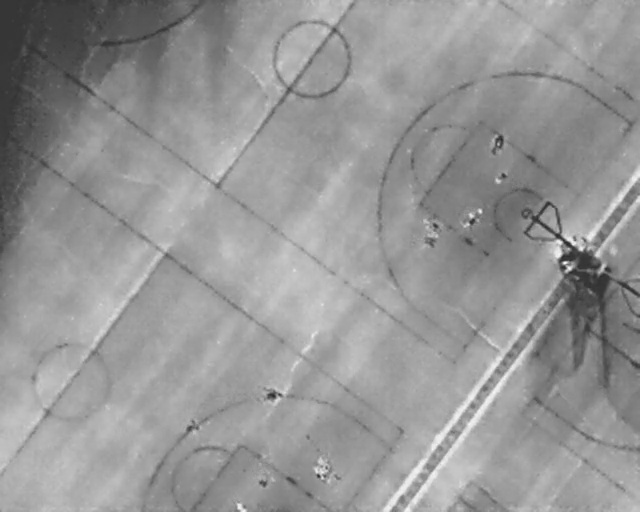Person: (457, 204, 486, 231), (485, 129, 508, 157), (262, 383, 286, 407), (312, 454, 332, 482), (491, 167, 509, 188), (185, 419, 202, 435), (234, 500, 251, 510)
